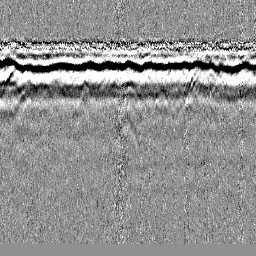cavity: (113, 103, 140, 148)
